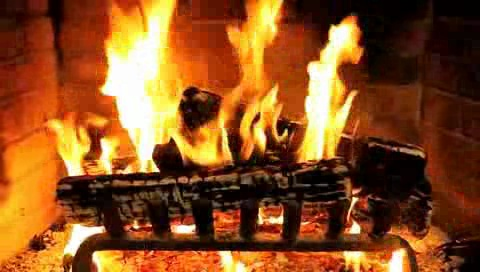fire: (97, 2, 354, 162)
